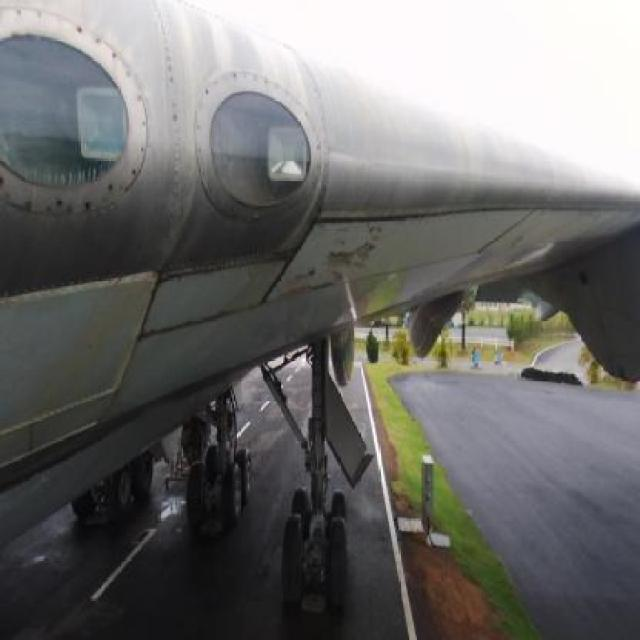Scartch: (264, 211, 418, 315)
